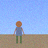person: (13, 21, 25, 43)
